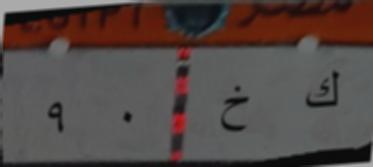0: (112, 101, 148, 138)
9: (42, 90, 77, 142)
kaaf: (299, 63, 343, 123)
khaa: (210, 84, 260, 145)
